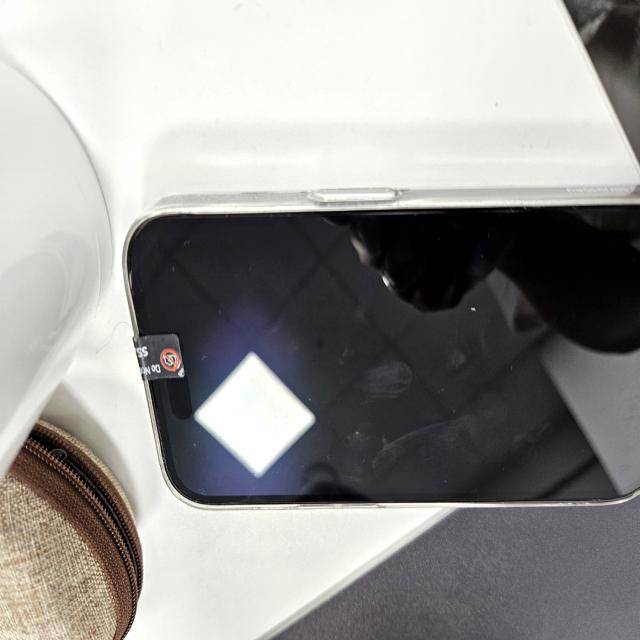phone: (120, 187, 640, 513)
sticker: (132, 335, 184, 382)
